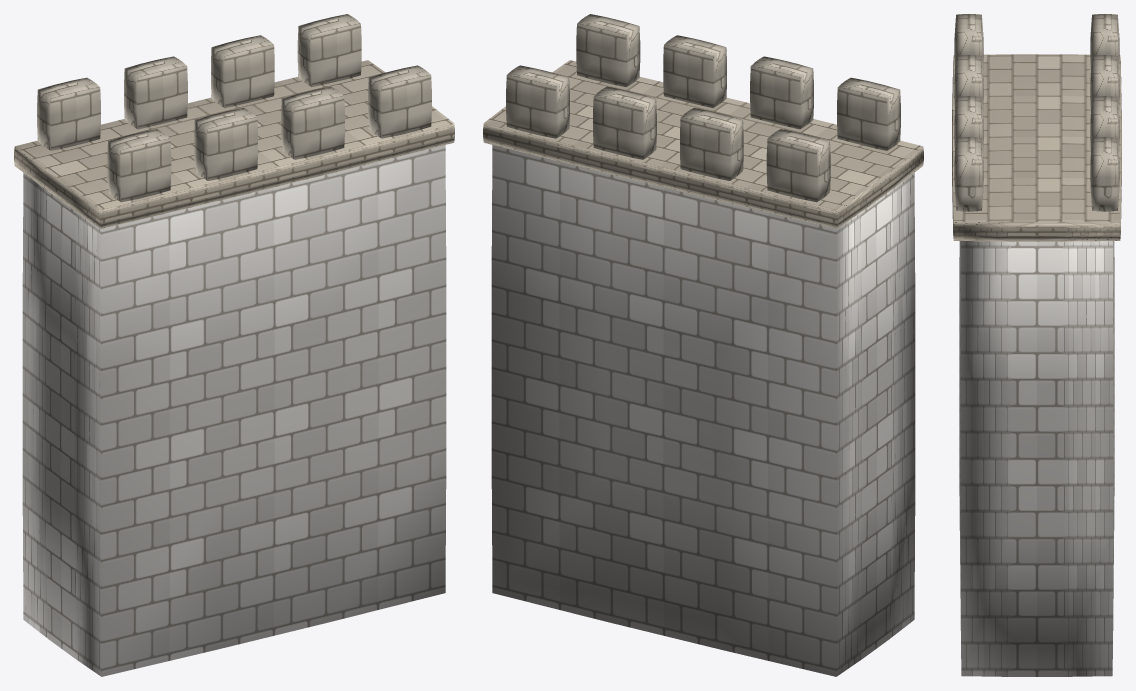
Rendered from fence_stone_city_wall.glb.
3 views of the same model, side by side, from view 1: azimuth 30°, elevation 25°; view 2: azimuth 150°, elevation 25°; view 3: azimuth 270°, elevation 25° (orthographic). The views are drawn at different scales.
Parts seen in each view (by area): view 1: wall_city_stone_blocks; view 2: wall_city_stone_blocks; view 3: wall_city_stone_blocks.
Boxes of the visible parts, box(x1,y1,x2,y2) form: wall_city_stone_blocks: box(14, 14, 454, 676); wall_city_stone_blocks: box(483, 14, 923, 676); wall_city_stone_blocks: box(952, 14, 1121, 676).
Bounding box in the file's own units: 4.1 × 5.8 × 1.75.
1 material, 1 textured.
